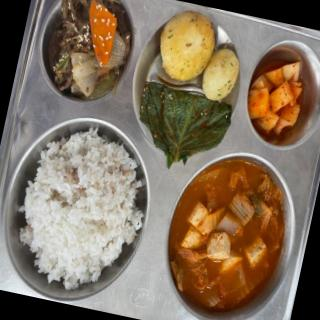Nasi: (7, 119, 160, 306)
